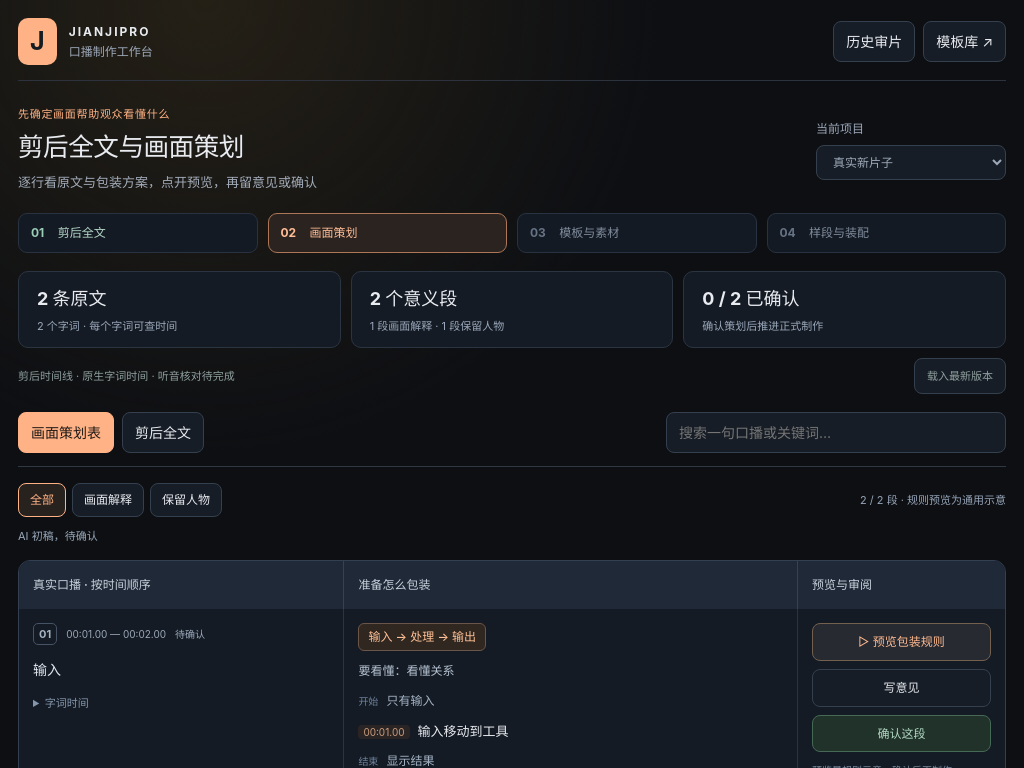
Scenario: 每行规则可预览真实运动示意，可以暂停、重播和关闭
Click the button with aria-label "预览第 1 段包装规则".
click(901, 642)  # box [812,623,991,661]
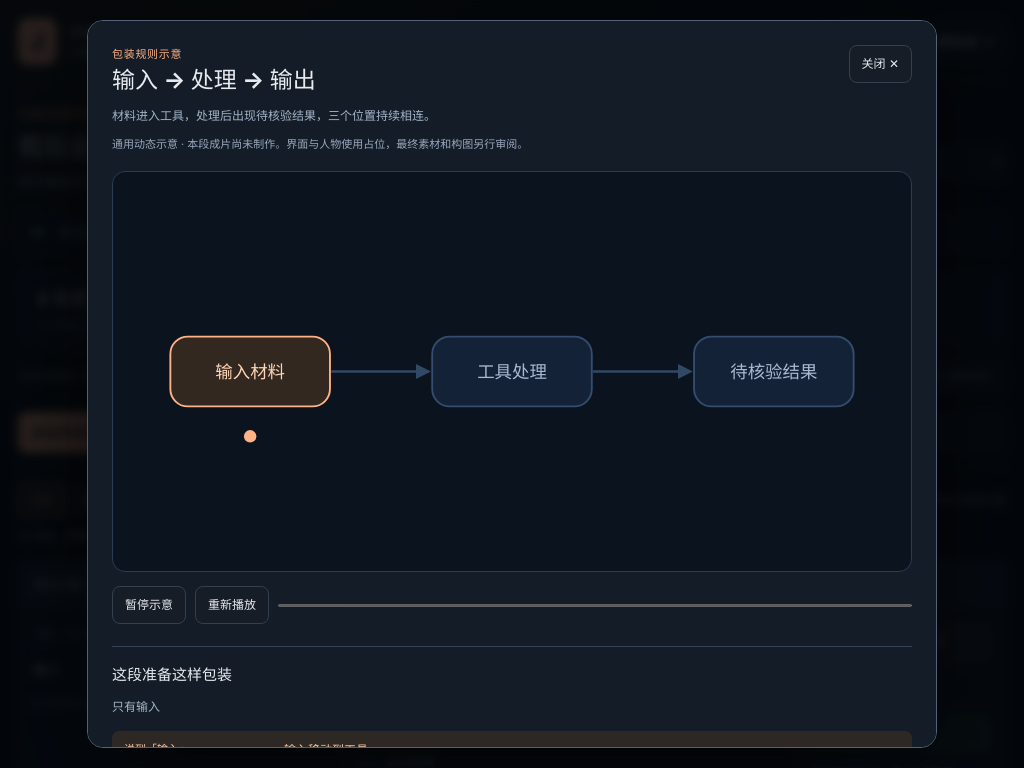
Expected: the dialog shows "本段成片尚未制作", [112,137,528,151]
// Start the interval under fake timers by pausing and resuming.
Click the button "暂停示意".
click(149, 605)  # box [112,586,186,624]
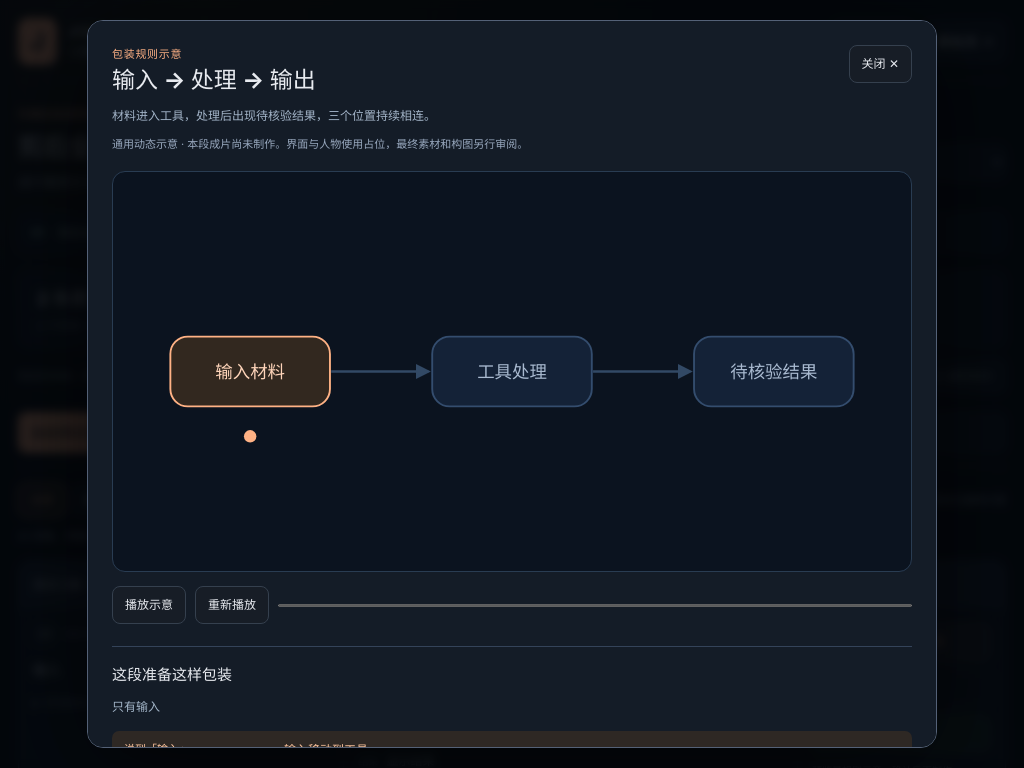
Click the button "播放示意".
click(149, 605)  # box [112,586,186,624]
Wait 2400 ms
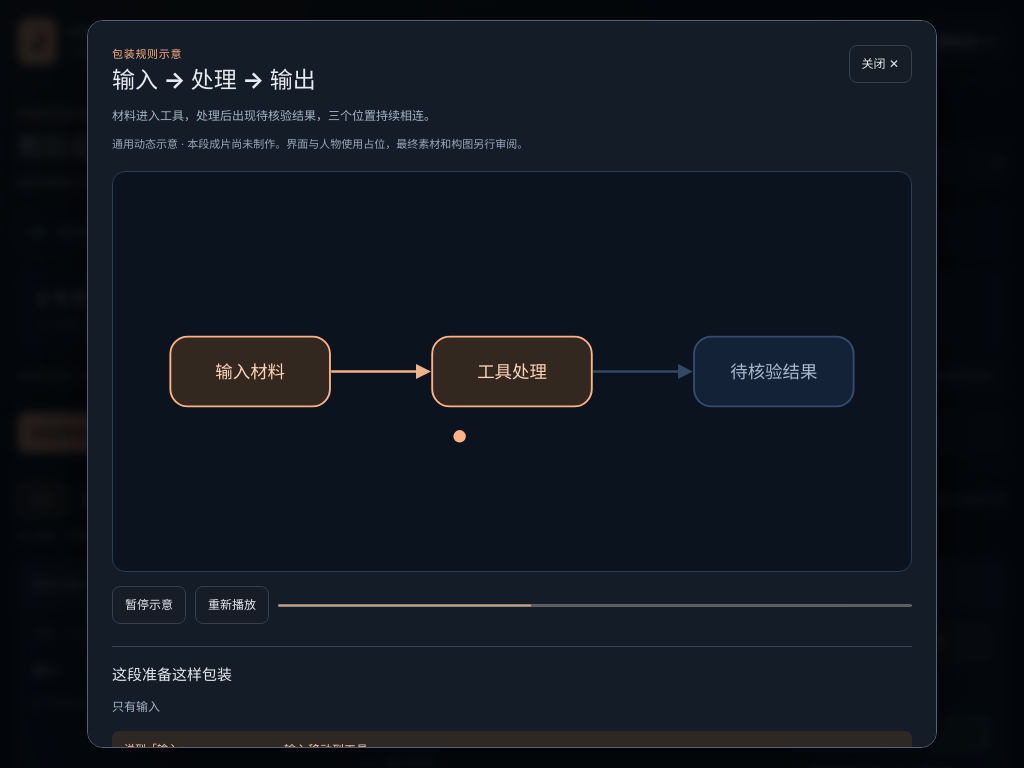
Expected: the picture named "包装规则动态示意" has attribute data-phase="1", [112,171,912,572]
Click the button "暂停示意".
click(149, 605)  # box [112,586,186,624]
Wait 2400 ms
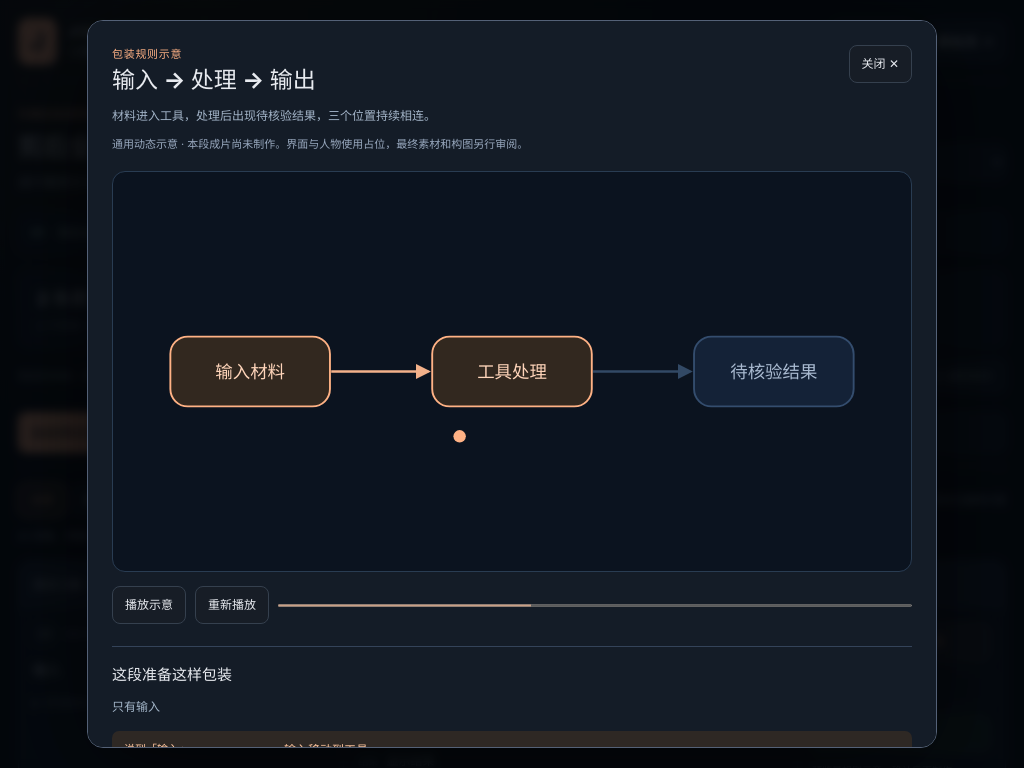
Expected: the picture named "包装规则动态示意" has attribute data-phase="1", [112,171,912,572]
Click the button "重新播放".
click(232, 605)  # box [195,586,269,624]
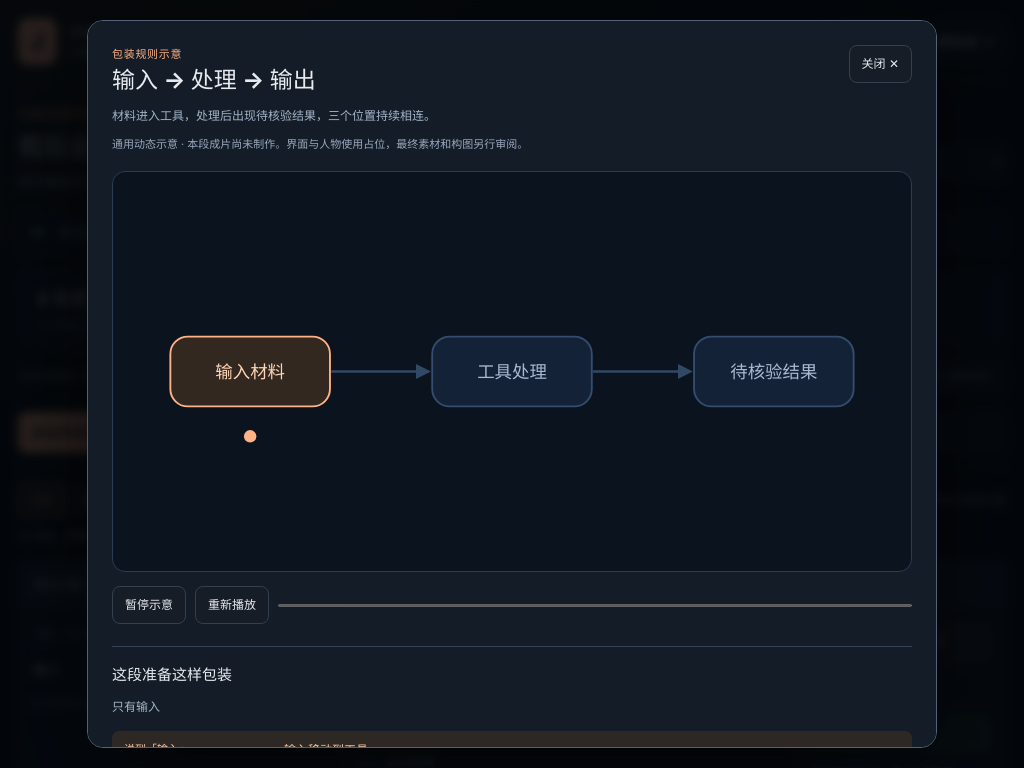
Expected: the picture named "包装规则动态示意" has attribute data-phase="0", [112,171,912,572]
Press Escape in the dialog
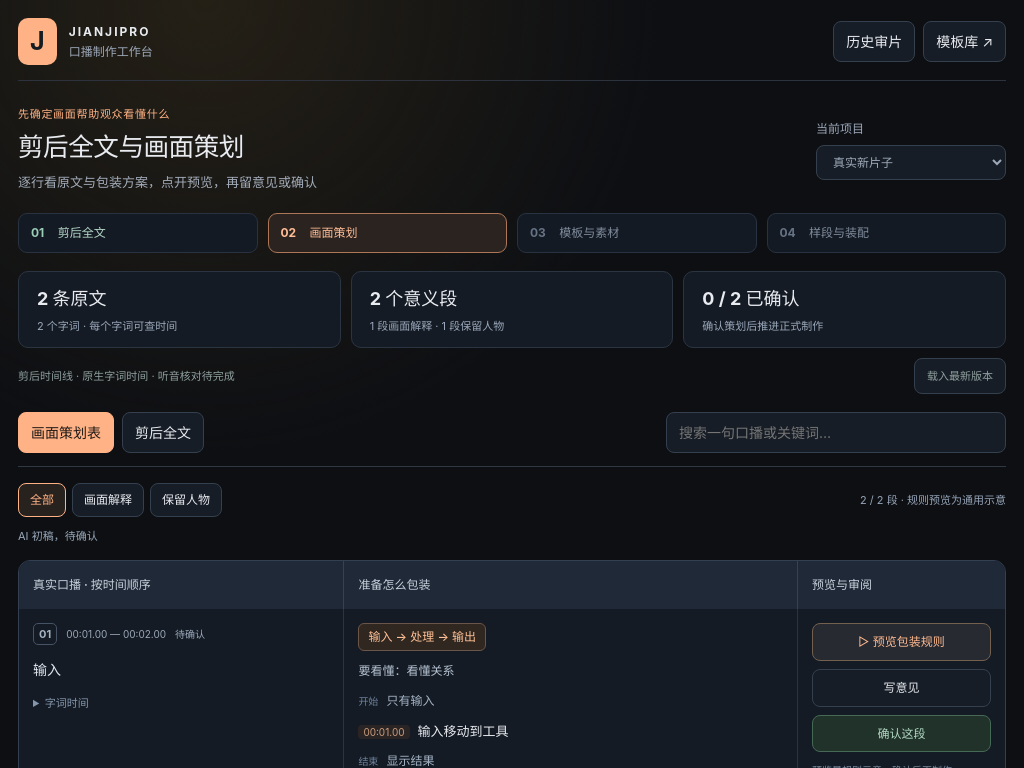
Expected: the dialog is gone
